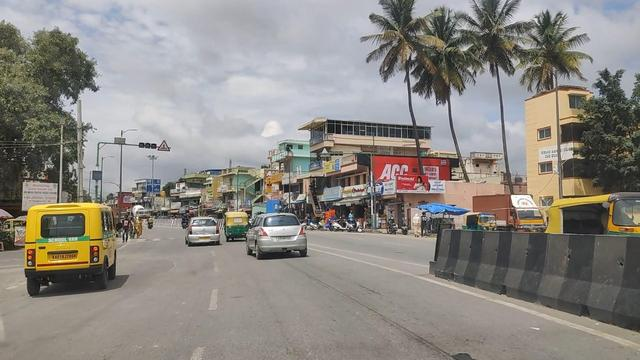LMV: (19, 189, 131, 301), (245, 198, 308, 270), (179, 209, 225, 253), (222, 203, 257, 247)
